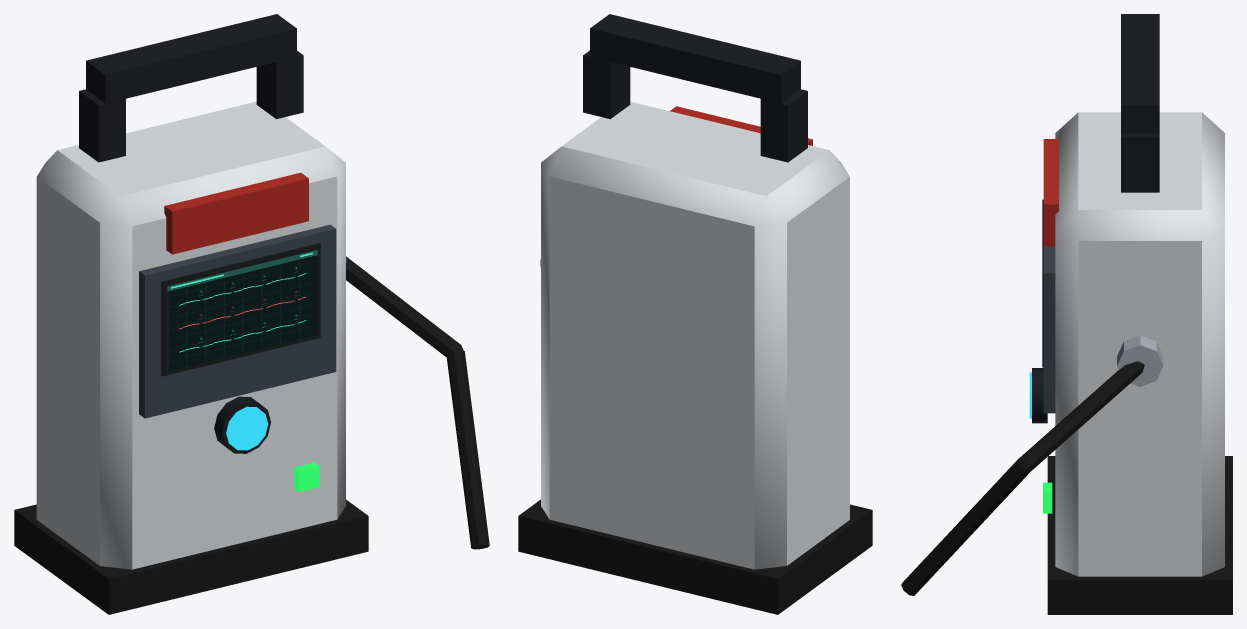
The model's file is cylinder_portable_o2_unit.glb.
3 renders of one model, left to right at view 1: azimuth 30°, elevation 25°; view 2: azimuth 150°, elevation 25°; view 3: azimuth 270°, elevation 25°, orthographic. The views are drawn at different scales.
Visible parts, largest first — view 1: cylinder_portable_o2_unit; view 2: cylinder_portable_o2_unit; view 3: cylinder_portable_o2_unit.
Part boxes in pixels (x1,y1,x2,y2): cylinder_portable_o2_unit: (14,14,489,614); cylinder_portable_o2_unit: (518,14,872,614); cylinder_portable_o2_unit: (901,14,1232,614).
Size of the model in its own units: 0.502 by 0.705 by 0.4297.
9 materials, 1 textured.
